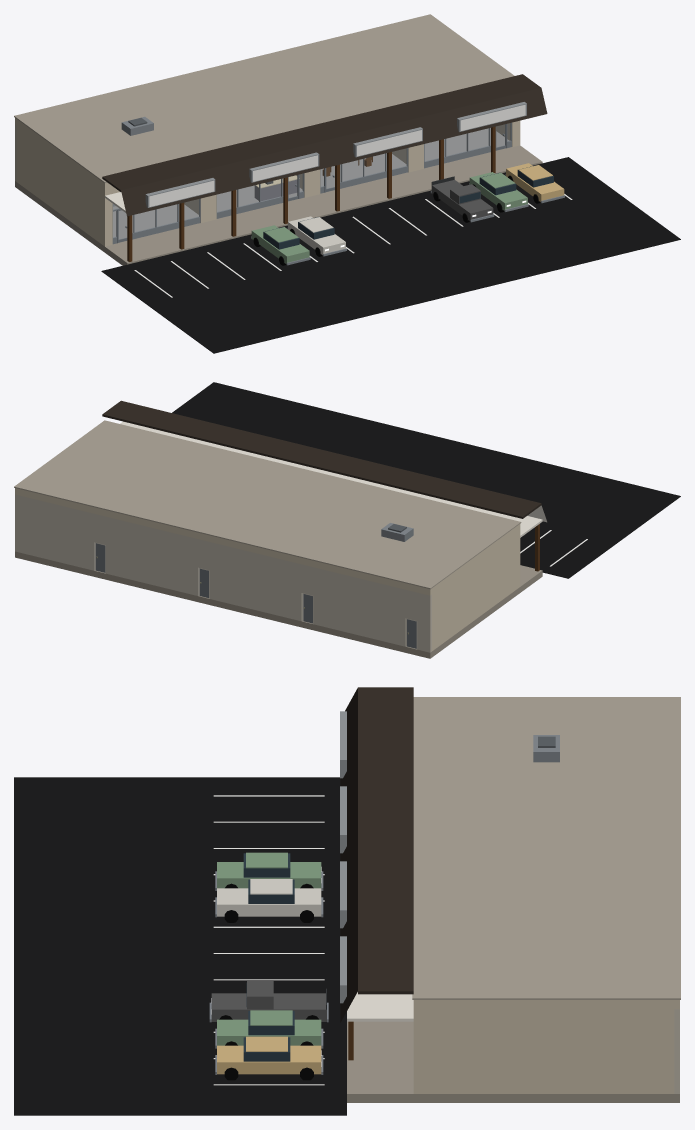
The model's file is strip.glb.
3 renders of one model, top to bottom at view 1: azimuth 30°, elevation 25°; view 2: azimuth 150°, elevation 25°; view 3: azimuth 270°, elevation 25°, orthographic. The views are drawn at different scales.
Parts seen in each view (by area): view 1: LOD0, FURN; view 2: LOD0; view 3: LOD0.
Boxes of the visible parts, left/top/right/bottom form: LOD0: left=14, top=14, right=680, bottom=353; FURN: left=113, top=156, right=372, bottom=206; LOD0: left=14, top=382, right=680, bottom=658; LOD0: left=14, top=687, right=680, bottom=1115.
Size of what is drawn, in the model's own units: 36 by 5.85 by 30.05.
